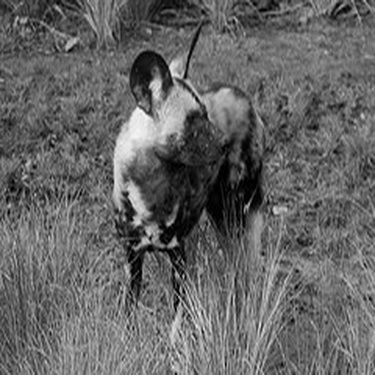dog: (79, 15, 296, 338)
